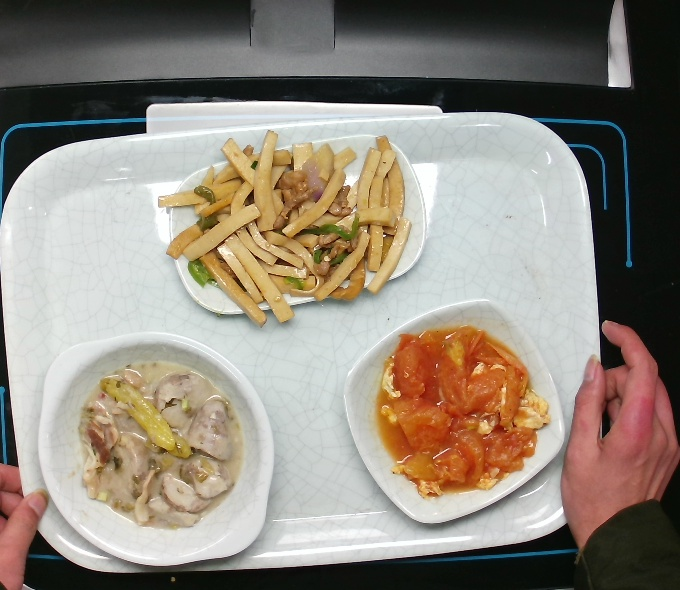wcq-FanQieChaoDan: (369, 321, 553, 501)
wcq-QianYeDouFu: (153, 127, 416, 331)
wcq-YangYu: (73, 356, 248, 534)
